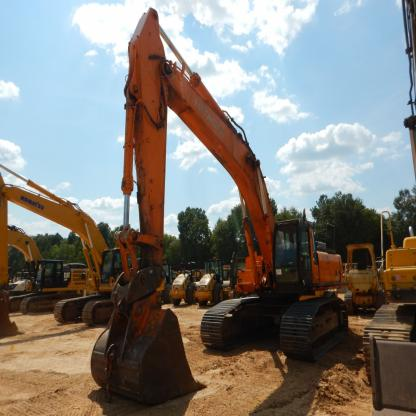excavator: (90, 5, 350, 398), (3, 170, 134, 334)
